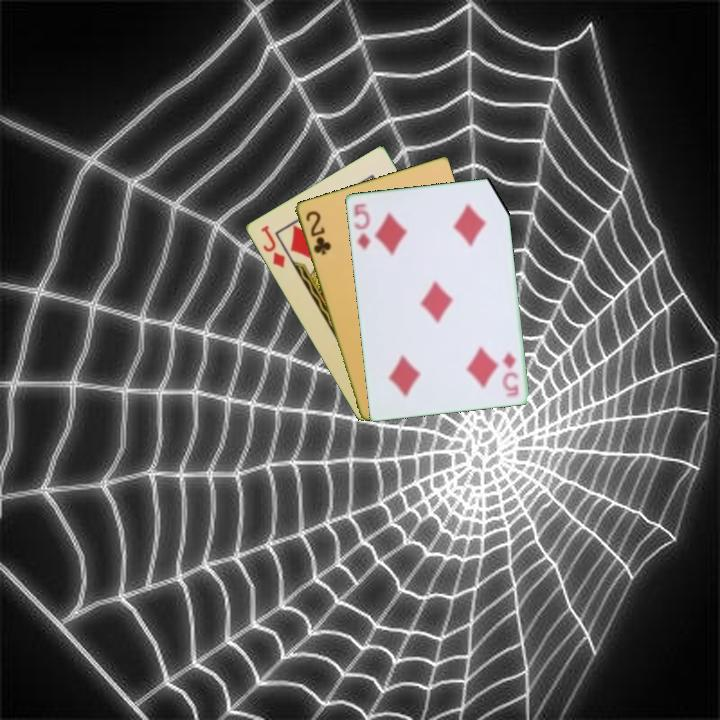2c: (302, 207, 333, 257)
5d: (350, 200, 373, 252), (498, 349, 521, 399)
Jd: (257, 222, 288, 271)
